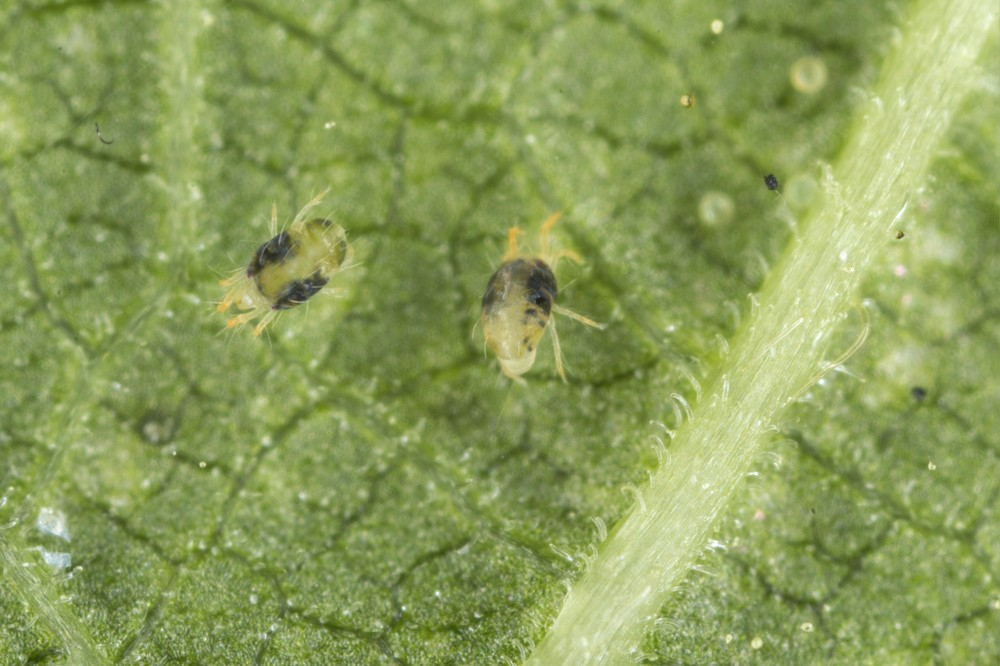Aracnido Rojo: (454, 209, 612, 394), (196, 188, 361, 334)
